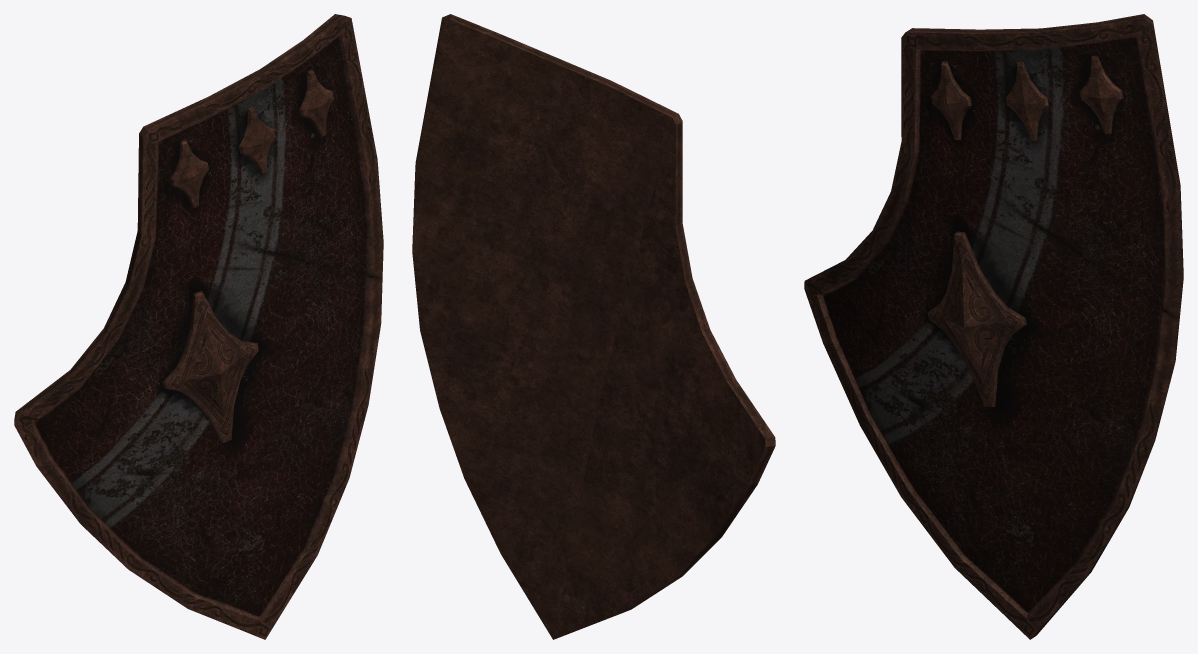
The model's file is ITSH_SHIELD_A_FENCING.glb.
The picture shows the model from 3 angles, left to right: view 1: azimuth 30°, elevation 25°; view 2: azimuth 150°, elevation 25°; view 3: azimuth 330°, elevation 25°; orthographic projection. The views are drawn at different scales.
Parts seen in each view (by area): view 1: ITSH_SHIELD_A_FENCING; view 2: ITSH_SHIELD_A_FENCING; view 3: ITSH_SHIELD_A_FENCING.
Part boxes in pixels (x1,y1,x2,y2): ITSH_SHIELD_A_FENCING: (14, 14, 383, 639); ITSH_SHIELD_A_FENCING: (412, 14, 775, 639); ITSH_SHIELD_A_FENCING: (804, 14, 1183, 639).
Bounding box in the file's own units: 0.5306 × 0.831 × 0.0857.
Materials: 1 (1 with a texture image).
